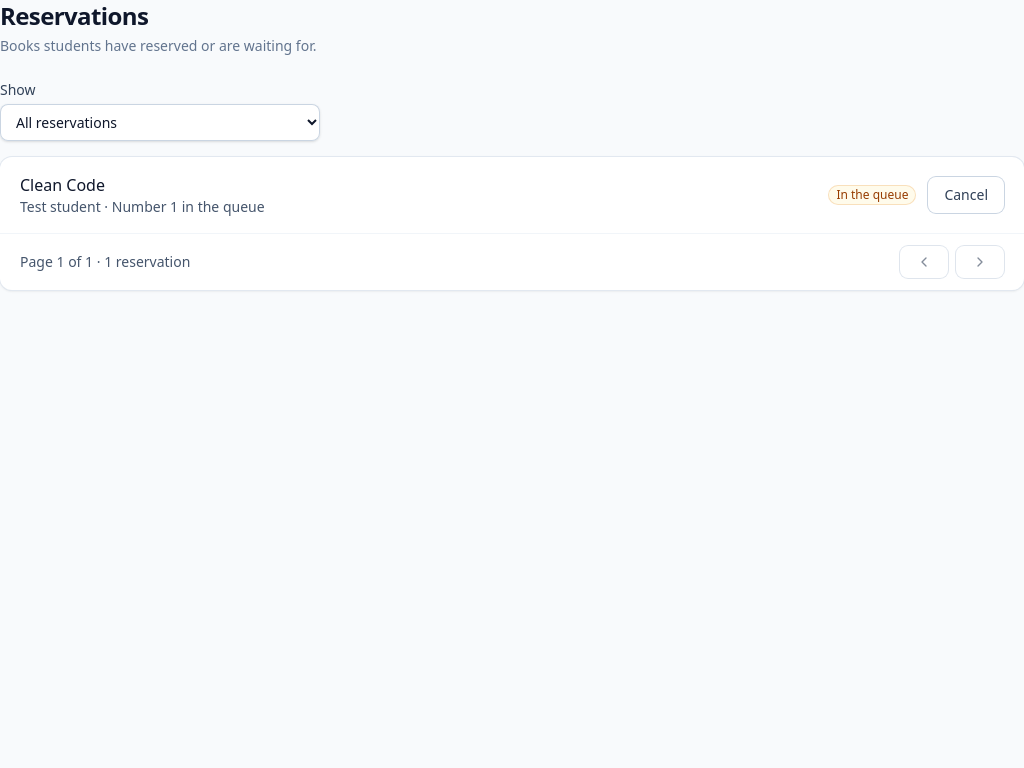
Test: StaffReservationsPage › shows the server reason when cancelling fails
The image size is (1024, 768).
Click the button with aria-label "Cancel Test student's reservation" at (966, 195), box [928,177,1004,213]
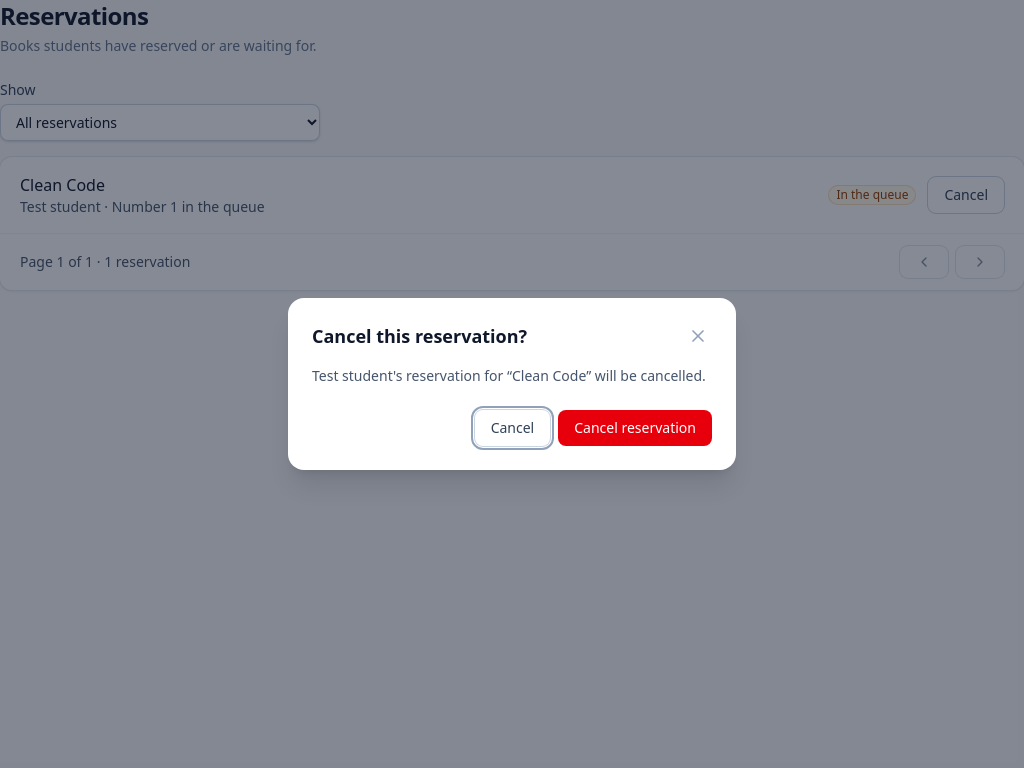
Click the button "Cancel reservation" at (635, 428), box [558,410,712,446]
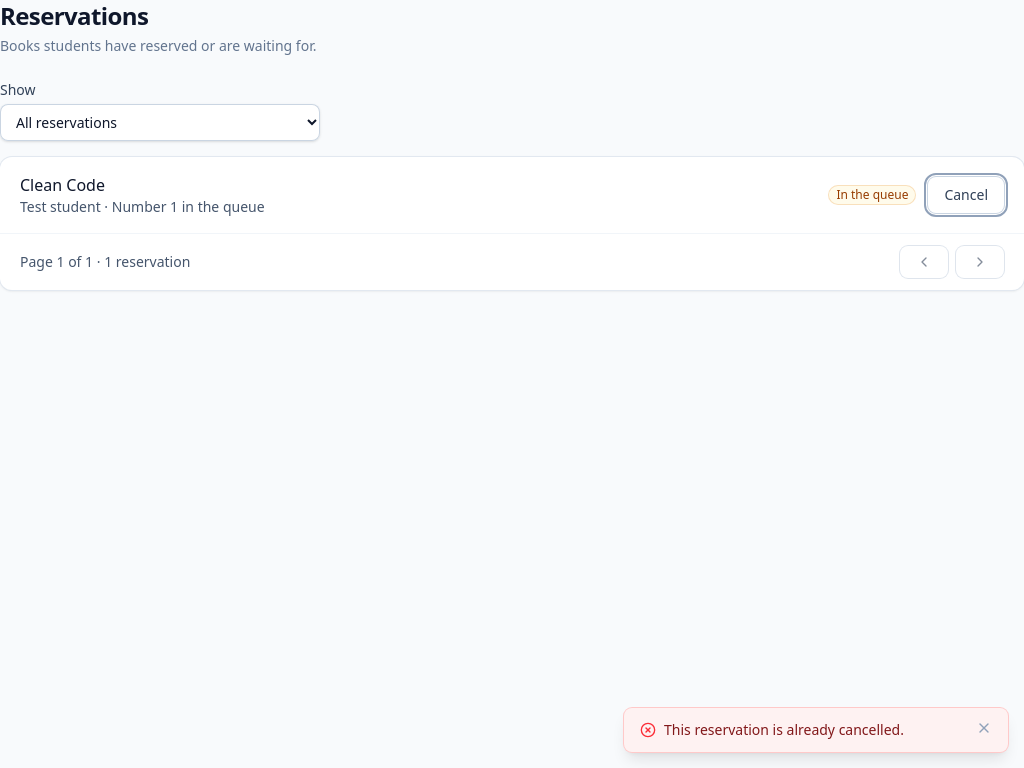
Now the text "This reservation is already cancelled." is shown, box [664,720,904,739]
